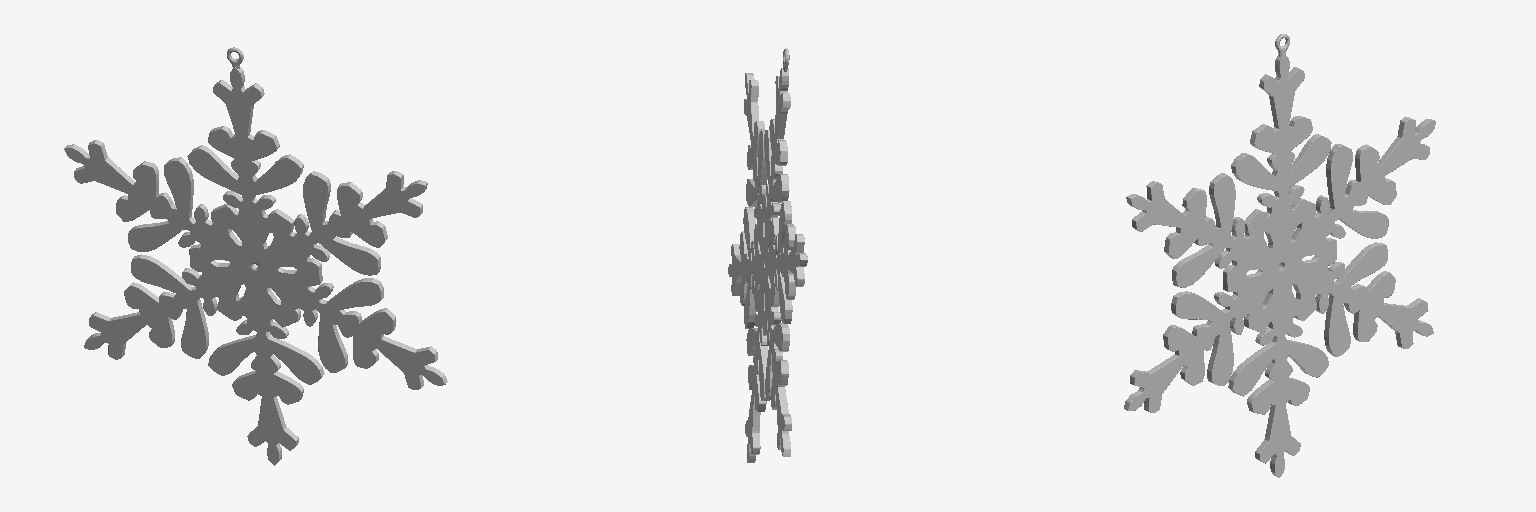
The model's file is deco.obj.
3 renders of one model, left to right at view 1: azimuth 30°, elevation 25°; view 2: azimuth 150°, elevation 25°; view 3: azimuth 270°, elevation 25°, orthographic.
Visible parts, largest first — view 1: 17767_Stellar_dendrites_shaped_Snowflake; view 2: 17767_Stellar_dendrites_shaped_Snowflake; view 3: 17767_Stellar_dendrites_shaped_Snowflake.
Part boxes in pixels (x1,y1,x2,y2): 17767_Stellar_dendrites_shaped_Snowflake: (64, 47, 447, 465); 17767_Stellar_dendrites_shaped_Snowflake: (728, 48, 807, 462); 17767_Stellar_dendrites_shaped_Snowflake: (1124, 34, 1435, 477).
Bounding box in the file's own units: 2.37 × 4.14 × 2.77.